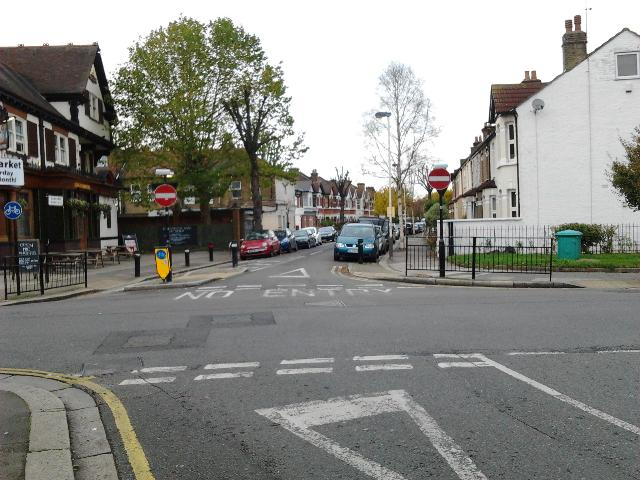B2: (153, 184, 179, 210), (430, 168, 452, 188)
